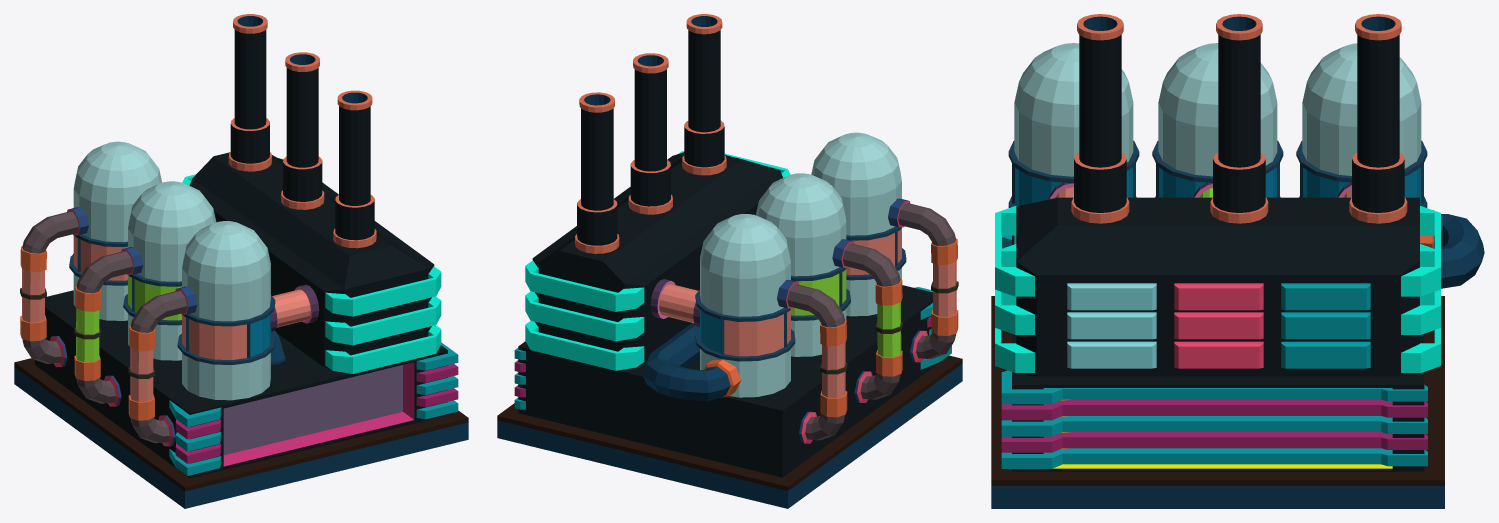
File: RefinerMesh.fbx
The picture shows the model from 3 angles, left to right: view 1: azimuth 30°, elevation 25°; view 2: azimuth 150°, elevation 25°; view 3: azimuth 270°, elevation 25°; orthographic projection. The views are drawn at different scales.
Parts seen in each view (by area): view 1: Refiner_LOD0; view 2: Refiner_LOD0; view 3: Refiner_LOD0.
Boxes of the visible parts, left/top/right/bottom form: Refiner_LOD0: left=14, top=14, right=468, bottom=508; Refiner_LOD0: left=497, top=14, right=962, bottom=508; Refiner_LOD0: left=991, top=14, right=1484, bottom=508.
Size of what is drawn, in the model's own units: 2230 by 2274 by 2322.
Materials: 4 (1 with a texture image).
